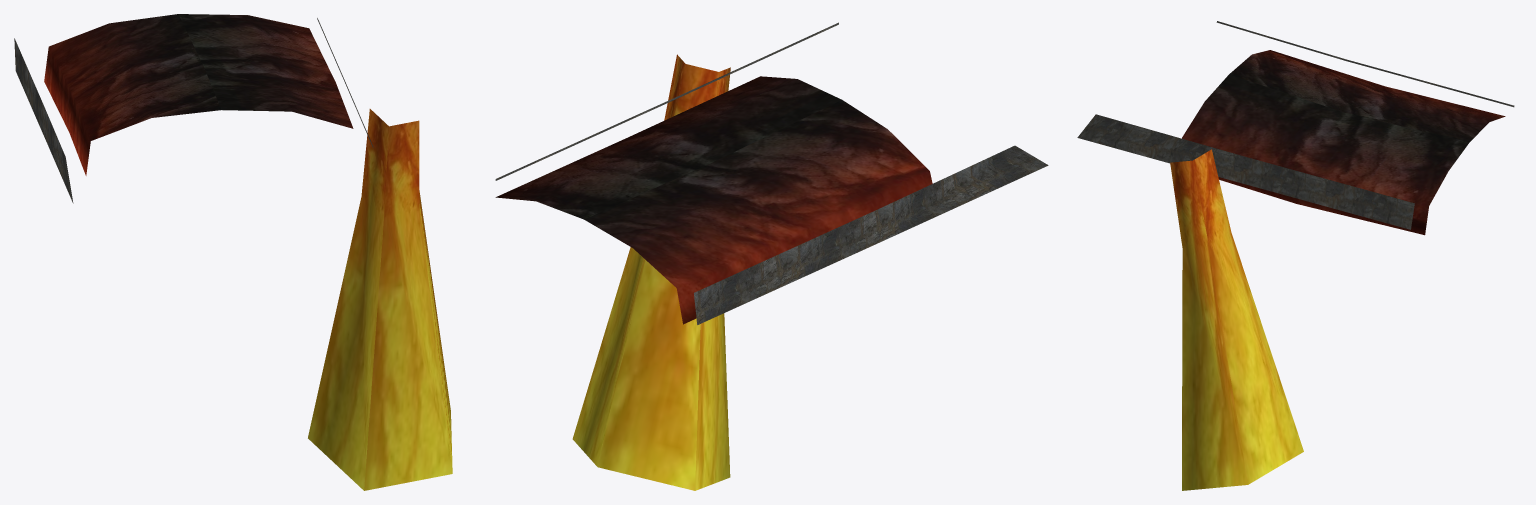
File: roadpart.glb
The picture shows the model from 3 angles, left to right: view 1: azimuth 30°, elevation 25°; view 2: azimuth 150°, elevation 25°; view 3: azimuth 270°, elevation 25°; orthographic projection. The views are drawn at different scales.
Visible parts, largest first — view 1: blackrock_lava.jpg__, castelwall.jpg__; view 2: blackrock_lava.jpg__, castelwall.jpg__; view 3: blackrock_lava.jpg__, castelwall.jpg__.
Boxes of the visible parts, <box> form: blackrock_lava.jpg__: <box>44,14,452,490</box>; castelwall.jpg__: <box>14,18,373,203</box>; blackrock_lava.jpg__: <box>495,54,932,490</box>; castelwall.jpg__: <box>495,22,1048,324</box>; blackrock_lava.jpg__: <box>1170,50,1505,490</box>; castelwall.jpg__: <box>1077,21,1514,229</box>.
Size of the model in its own units: 21.44 by 19.78 by 23.72.
Materials: 2 (2 with a texture image).
